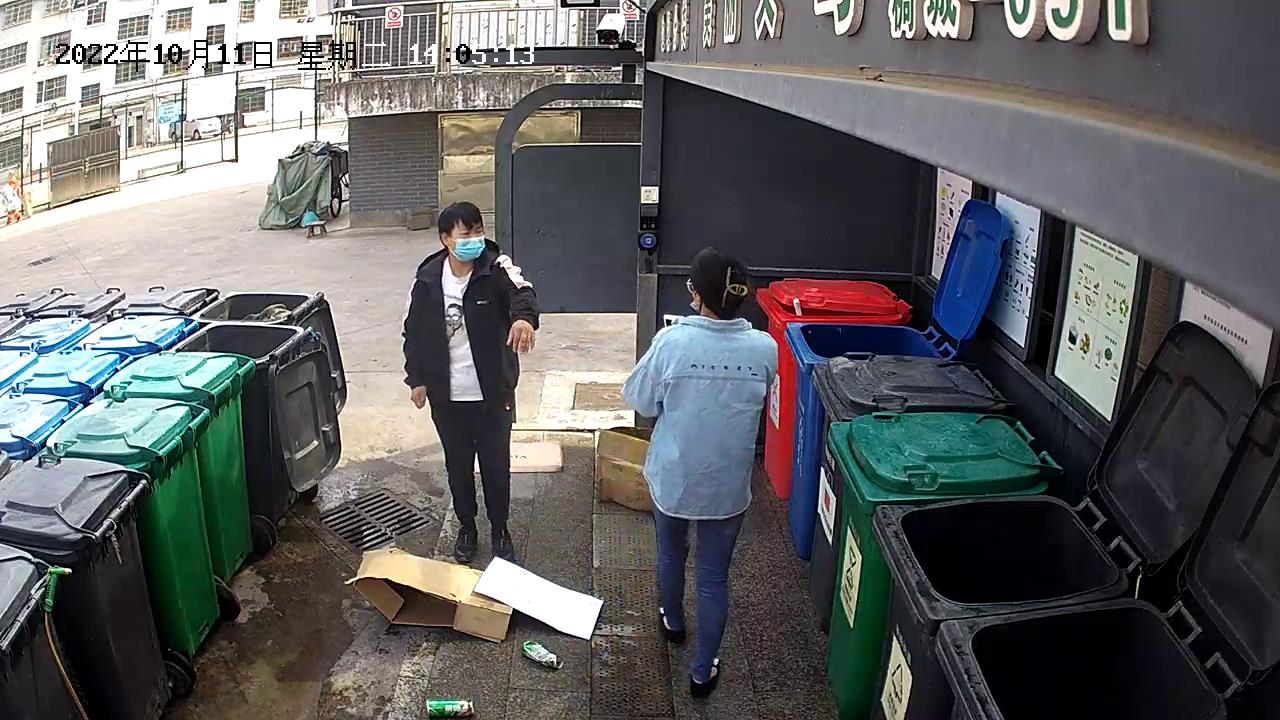lvzhipin: (519, 637, 566, 669), (424, 697, 477, 718)
person: (400, 199, 542, 565)
worker: (619, 244, 779, 705)
zhizhipin: (342, 545, 607, 647), (592, 424, 658, 514), (509, 438, 565, 475)
